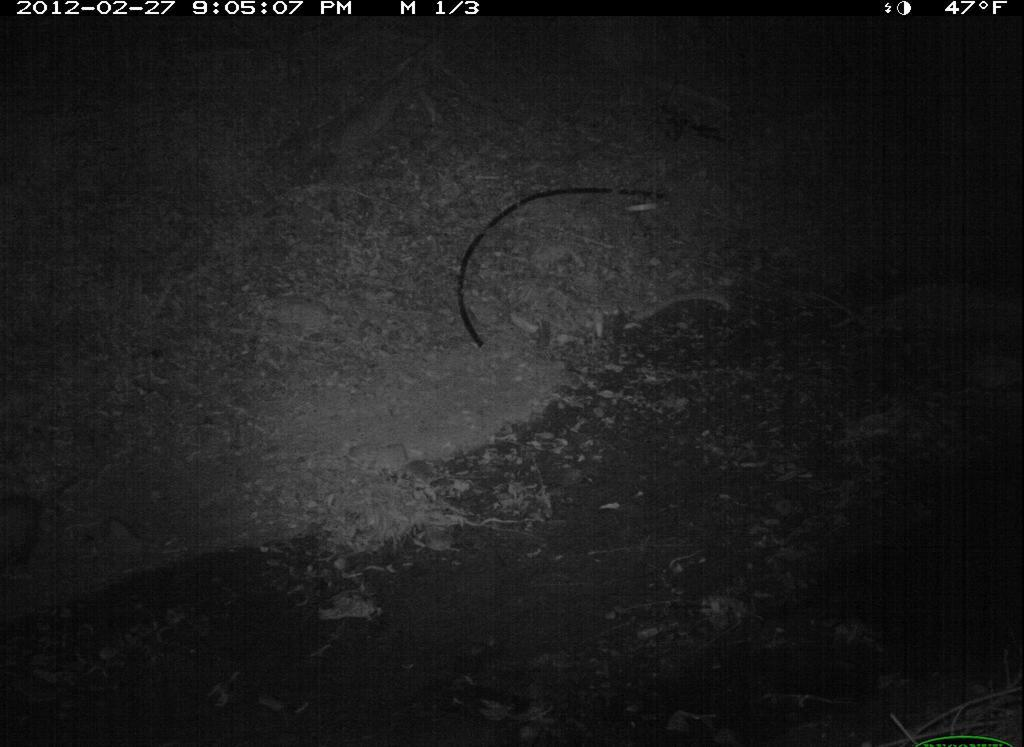opossum: (4, 464, 80, 587)
